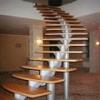stairs: (27, 5, 96, 68)
